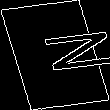N_W: (10, 30, 100, 80)
